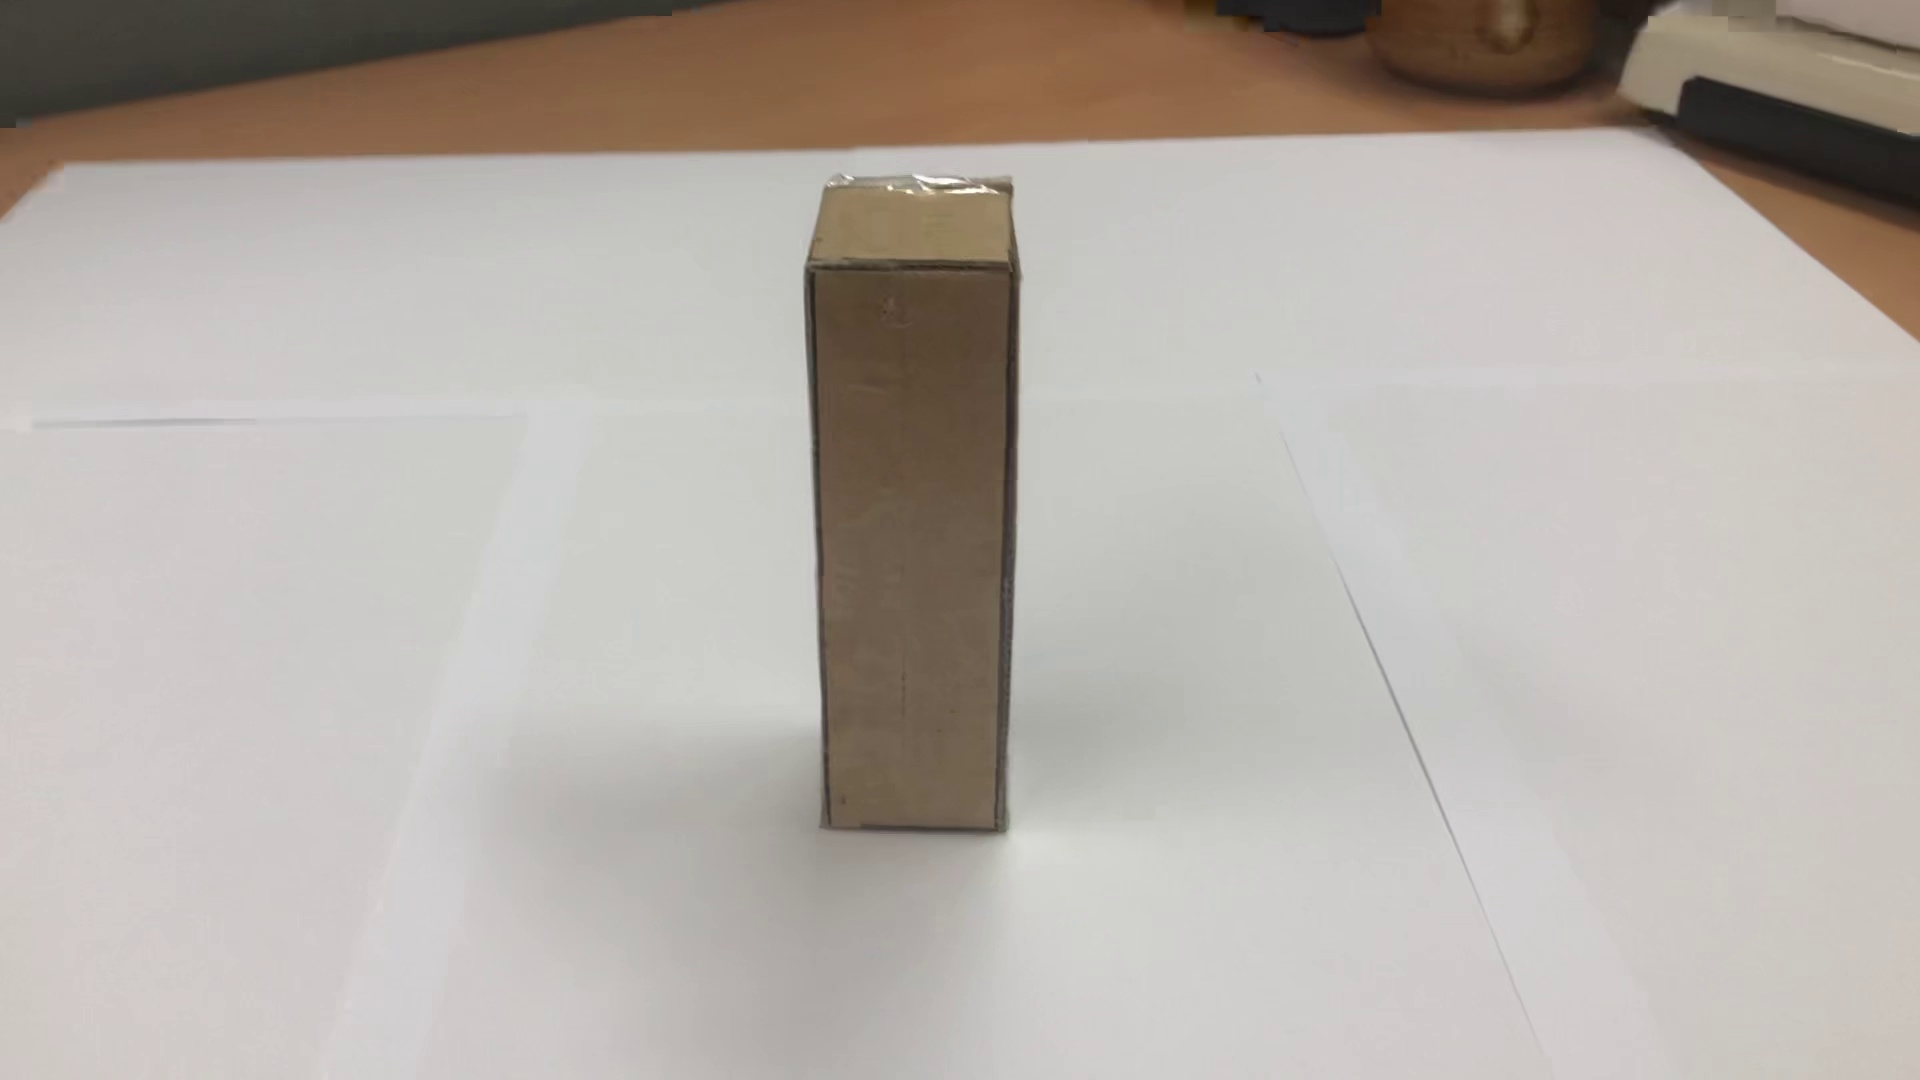box: (767, 160, 1068, 881)
